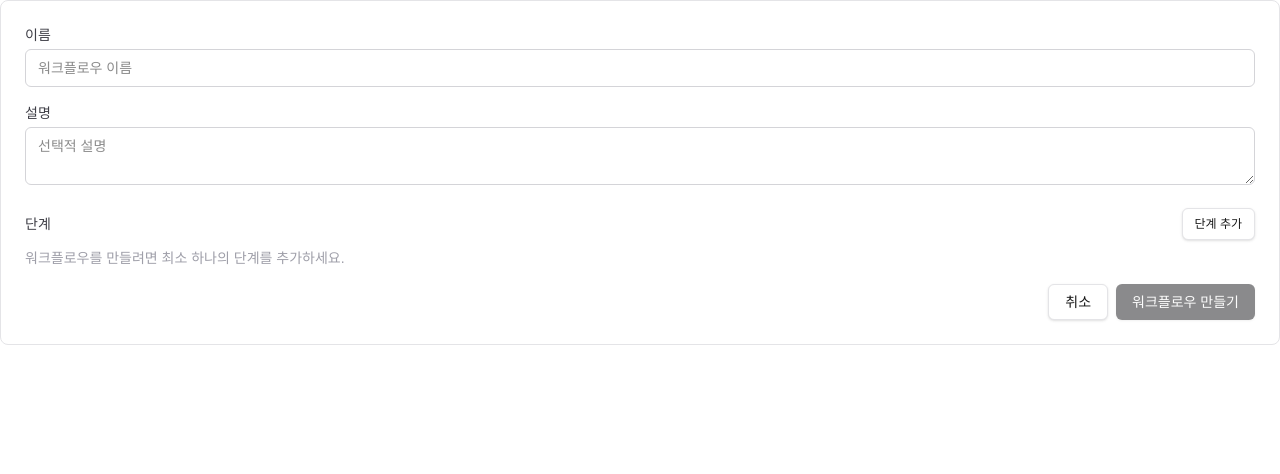
Test: WorkflowCreateForm › add step adds a step editor
Click the button with test id "add-step-button" at [1218, 224], box top-left (1182, 208), bottom-right (1255, 240)
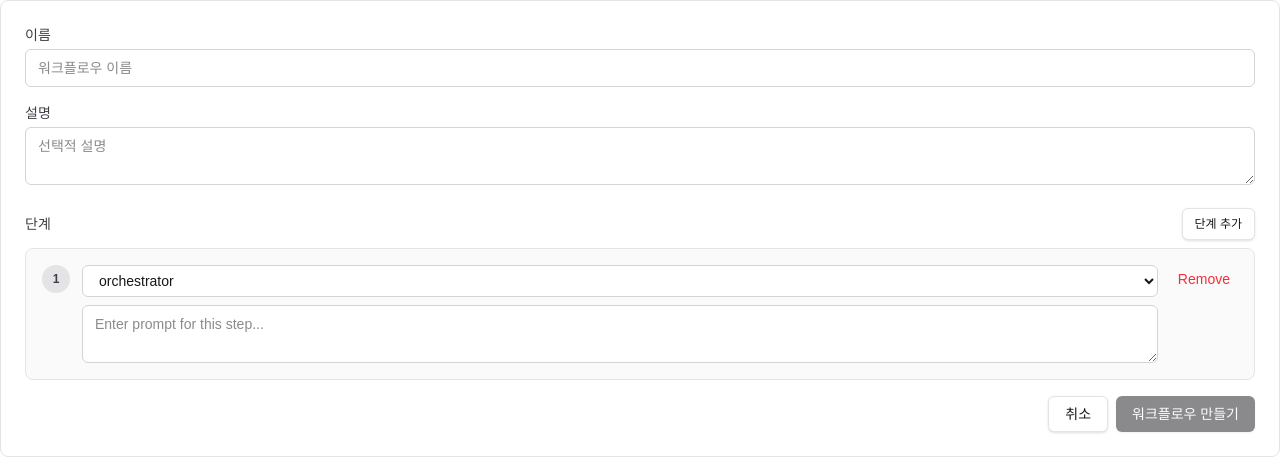
Now the element with test id "step-editor-0" is shown, box top-left (25, 248), bottom-right (1255, 380)
